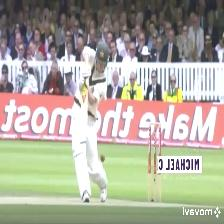ball: (96, 151, 106, 162)
batsman: (64, 43, 114, 205)
